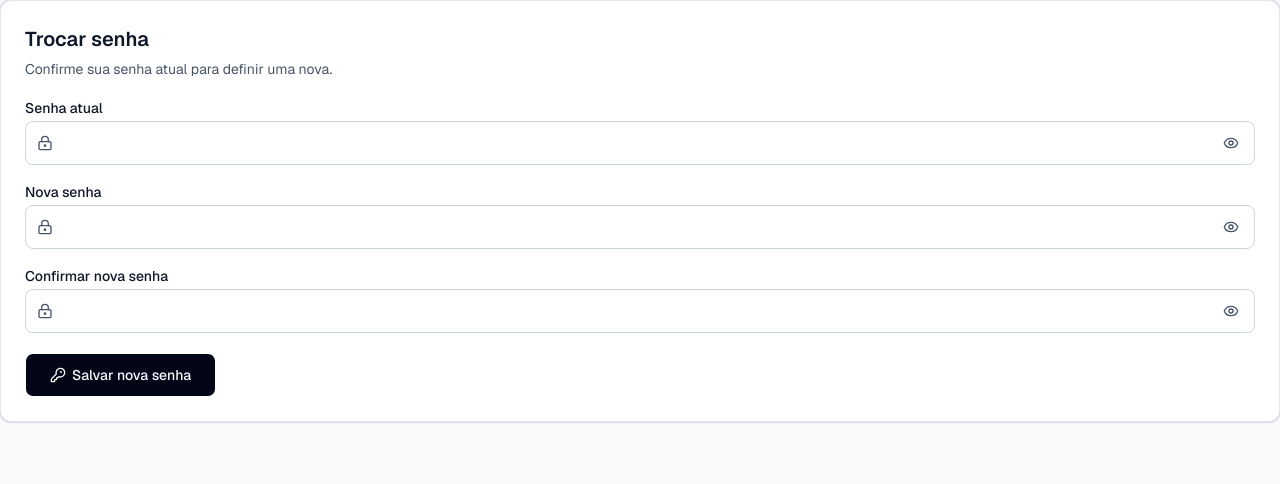
ChangePasswordForm › should show a validation error when the new password is shorter than 8 characters
The image size is (1280, 484).
Type "current-password" into the password field labelled "Senha atual". click: [640, 143]
box: [25, 121, 1255, 165]
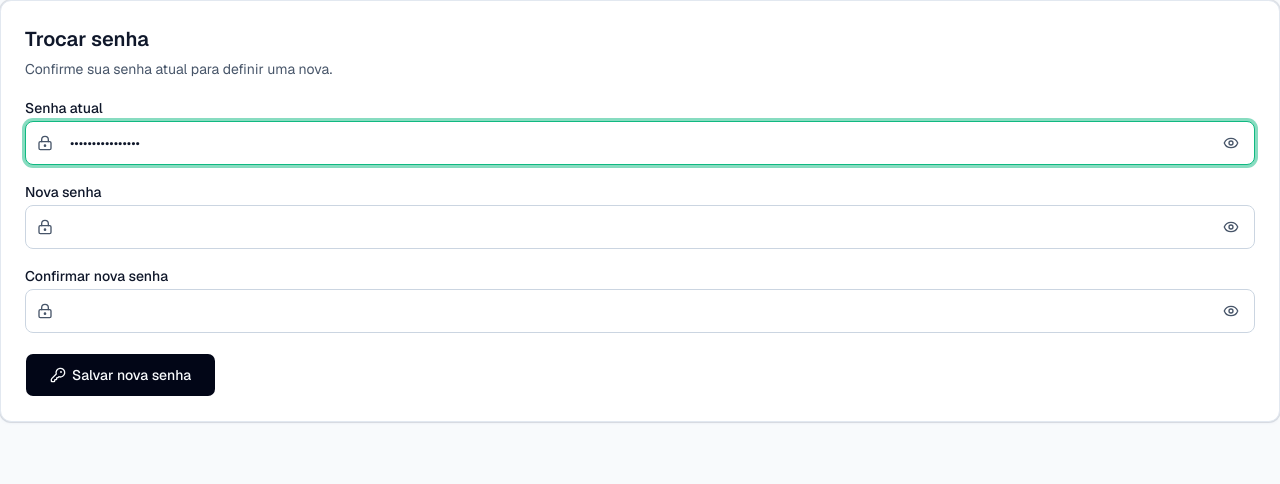
Type "1234567" into the password field labelled "Nova senha". click: [640, 227]
box: [25, 205, 1255, 249]
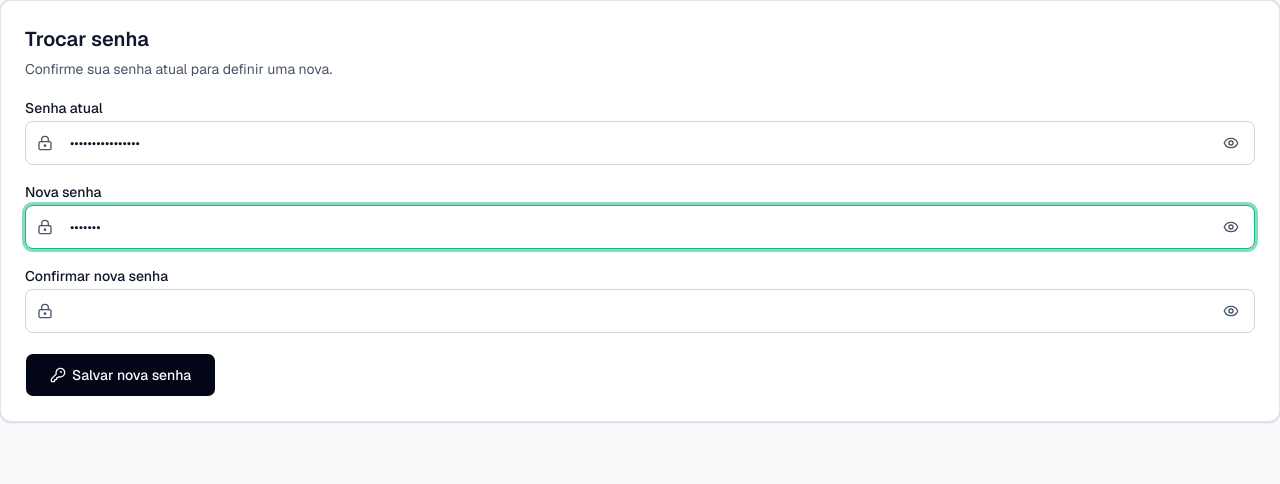
Type "1234567" into the password field labelled "Confirmar nova senha". click: [640, 311]
box: [25, 289, 1255, 333]
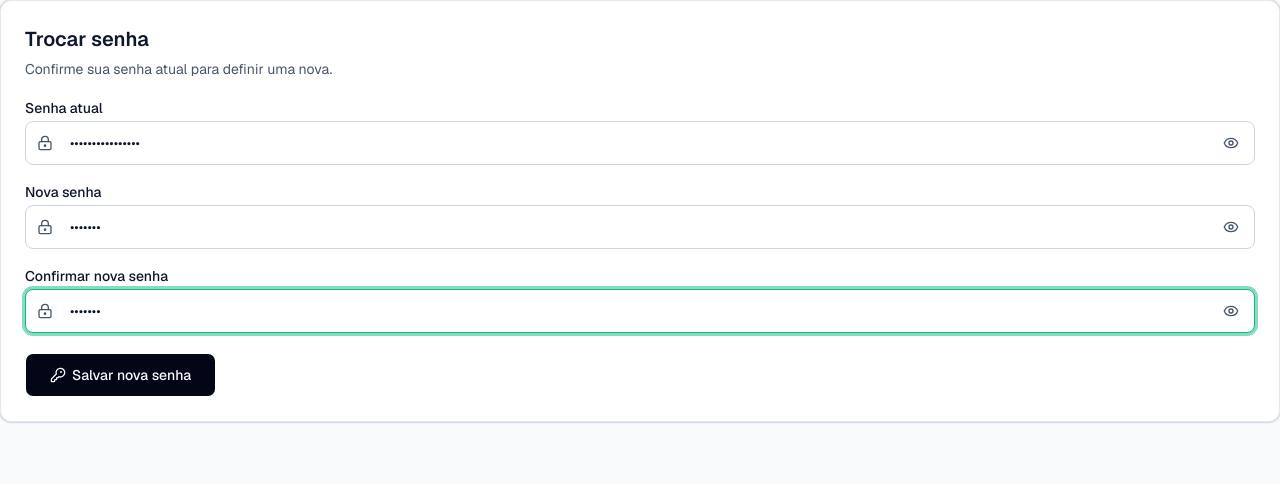
Click the button "Salvar nova senha". click: [121, 375]
box: [25, 353, 216, 397]
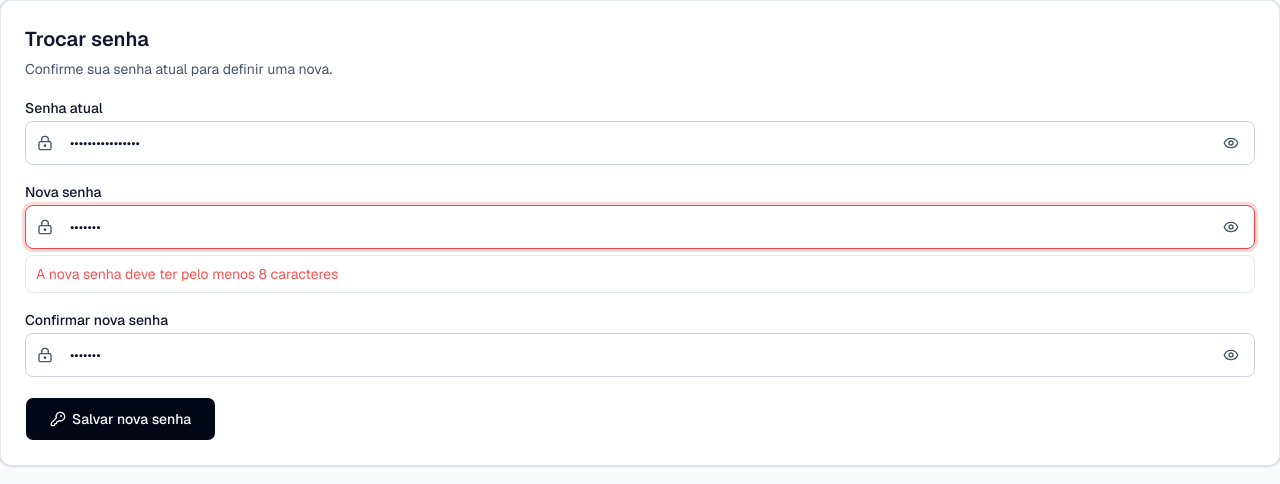
expect the text "A nova senha deve ter pelo menos 8 caracteres" is shown: met, box [36, 265, 338, 283]
